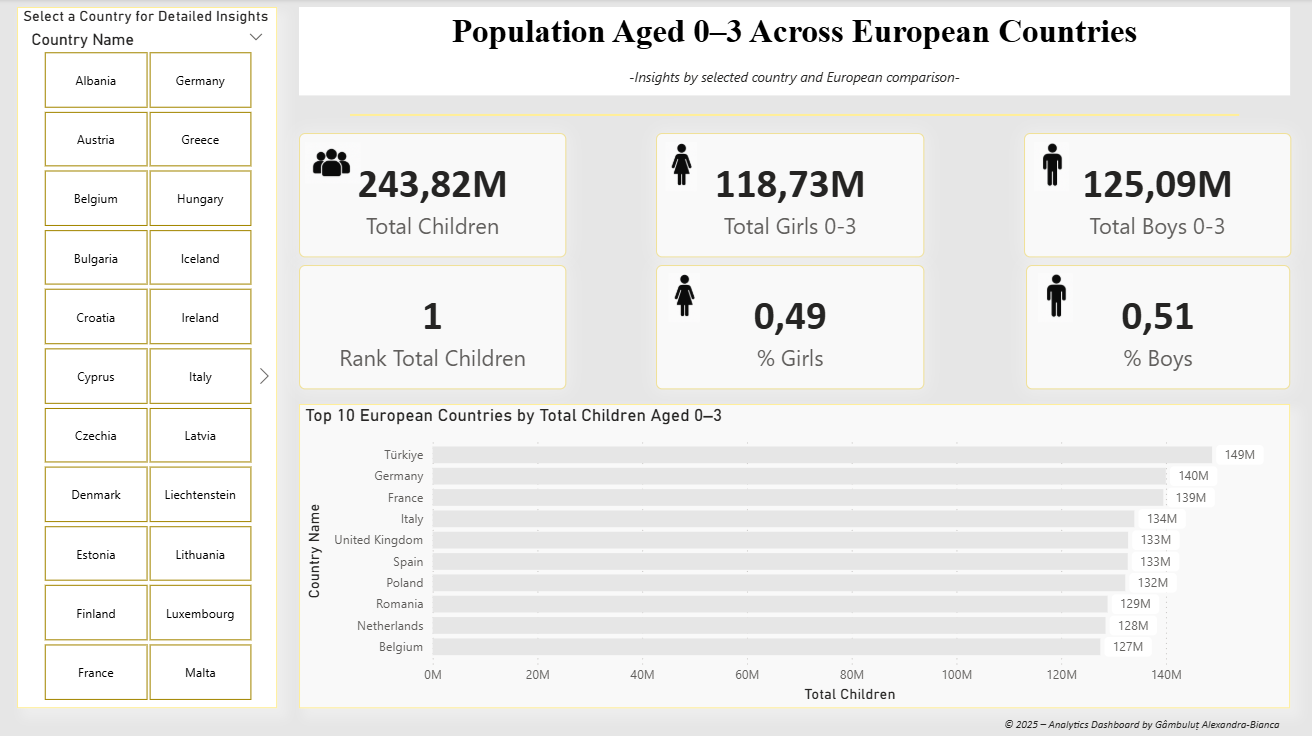

This screenshot's page, from the dashboard's own definition file:
{"tool":"powerbi","page":{"name":"Page 2","canvas":[1280,720],"ordinal":1},"visuals":[{"type":"slicer","title":"Select a Country for Detailed Insights","fields":{"Values":["Dim Country.Country Name"]},"box":[18.7,8,253.1,681.5],"z":0},{"type":"textbox","box":[293.2,8,964,85.7],"z":1000},{"type":"card","fields":{"Values":["Dim Country.Total Children"]},"box":[293.2,129.9,259.7,120.5],"z":2000},{"type":"image","box":[293.2,133.9,65.6,49.5],"z":3000},{"type":"card","fields":{"Values":["Dim Country.Total Women 0-3"]},"box":[640,129.9,261.1,120.5],"z":4000},{"type":"image","box":[640,133.9,49.5,57.6],"z":5000},{"type":"card","fields":{"Values":["Dim Country.Total Men 0-3"]},"box":[997.5,129.9,259.7,120.5],"z":6000},{"type":"image","box":[1000.2,133.9,49.5,57.6],"z":7000},{"type":"card","fields":{"Values":["Dim Country.Rank Total Children"]},"box":[293.2,258.4,259.7,120.5],"z":8000},{"type":"shape","box":[342.8,93.7,864.9,38.8],"z":10000},{"type":"clusteredBarChart","title":"Top 10 European Countries by Total Children Aged 0–3","fields":{"Category":["0-3 years FEMALE.Country Name"],"Y":["Dim Country.Total Children"]},"box":[293.2,393.6,964,295.9],"z":10500},{"type":"card","fields":{"Values":["Dim Country.% Girls"]},"box":[640,258.4,261.1,120.5],"z":11000},{"type":"card","fields":{"Values":["Dim Country.% Boys"]},"box":[1000.2,258.4,257.1,120.5],"z":12000},{"type":"textbox","box":[973.4,689.5,306.6,30.8],"z":13000},{"type":"image","box":[643.3,261.7,49.5,57.6],"z":13001},{"type":"image","box":[1003.5,261.7,49.5,57.6],"z":13002}]}

Visuals, with their boxes in screenshot pixels (x1, y1, x2, y2), scaled from the page's 1280x720 canvas onto the 1312x736 screenshot:
"Select a Country for Detailed Insights" slicer: x1=19 y1=8 x2=279 y2=705
textbox: x1=301 y1=8 x2=1289 y2=96
card - Dim Country.Total Children: x1=301 y1=133 x2=567 y2=256
image: x1=301 y1=137 x2=368 y2=187
card - Dim Country.Total Women 0-3: x1=656 y1=133 x2=924 y2=256
image: x1=656 y1=137 x2=707 y2=196
card - Dim Country.Total Men 0-3: x1=1022 y1=133 x2=1289 y2=256
image: x1=1025 y1=137 x2=1076 y2=196
card - Dim Country.Rank Total Children: x1=301 y1=264 x2=567 y2=387
shape: x1=351 y1=96 x2=1238 y2=135
"Top 10 European Countries by Total Children Aged 0–3" clusteredBarChart: x1=301 y1=402 x2=1289 y2=705
card - Dim Country.% Girls: x1=656 y1=264 x2=924 y2=387
card - Dim Country.% Boys: x1=1025 y1=264 x2=1289 y2=387
textbox: x1=998 y1=705 x2=1311 y2=735
image: x1=659 y1=268 x2=710 y2=326
image: x1=1029 y1=268 x2=1079 y2=326
